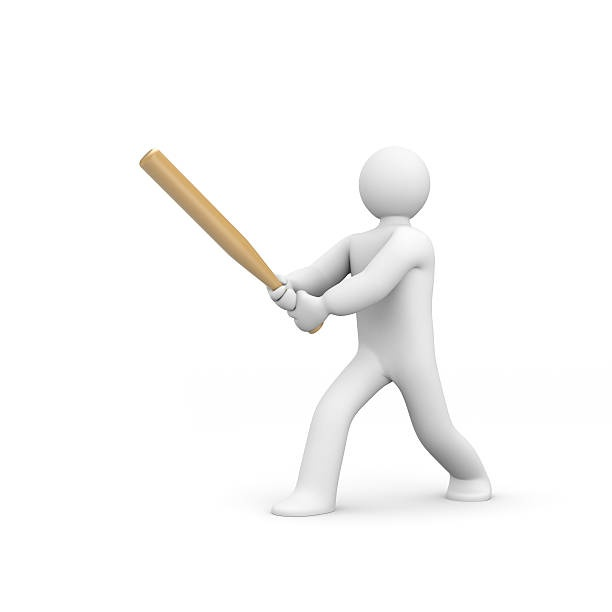bita: (121, 139, 286, 299)
